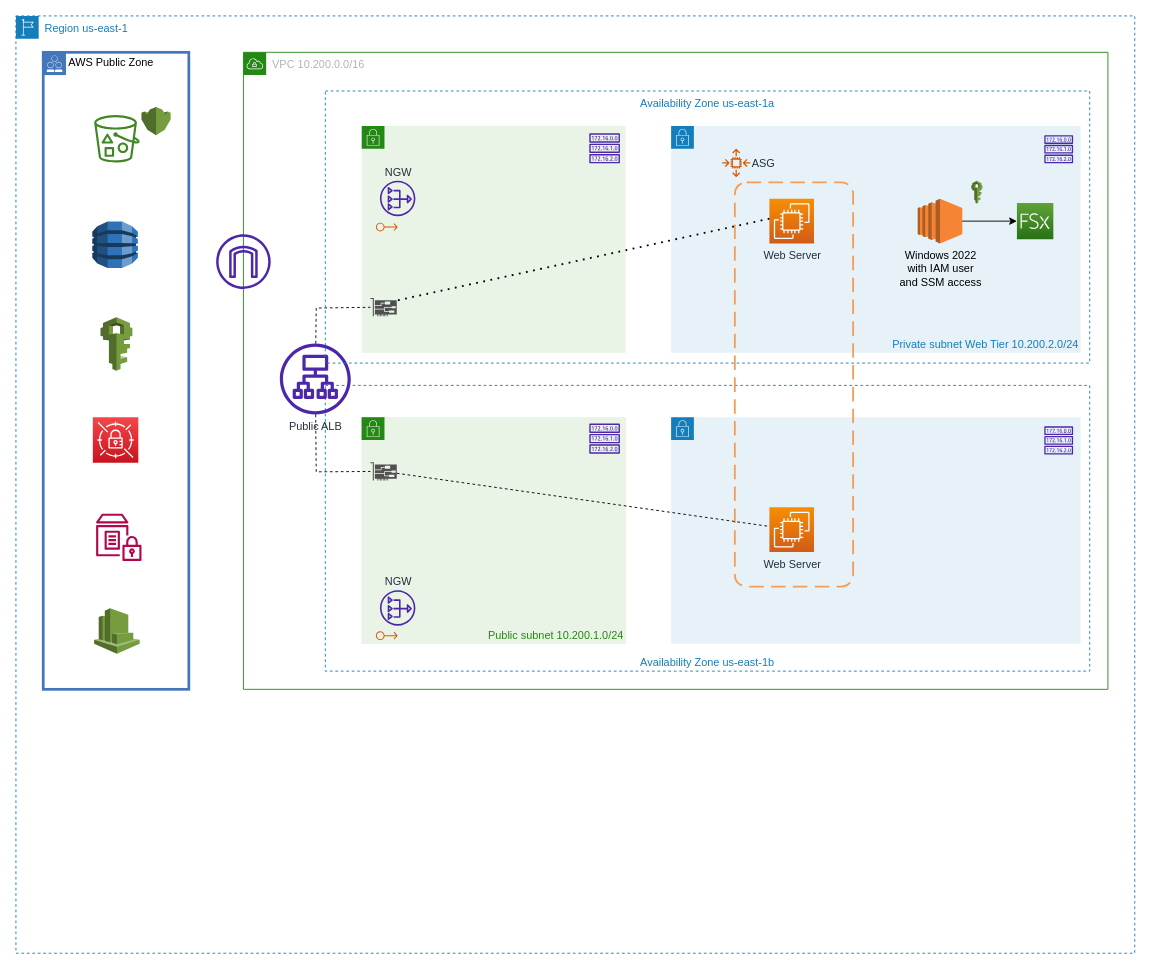
Some shapes in this 1151 by 969 pixel diagram are drawn without their labels. The shapes that lost their labels are listed below. From the top down, each one's box as (x1, y1, x2, y2) in pixels, then its label:
(94, 115, 139, 162): Remote tfstate encrypted bucket
(91, 221, 138, 268): Remote tfstate lock table
(361, 125, 626, 353): Public subnet 10.200.0.0/24
(100, 316, 132, 371): IAM Users
(92, 416, 138, 463): Secrets Manager
(96, 513, 141, 561): Parameter Store
(670, 416, 1081, 644): Private subnet Web Tier 10.200.3.0/24
(93, 607, 140, 654): Cloudwatch
